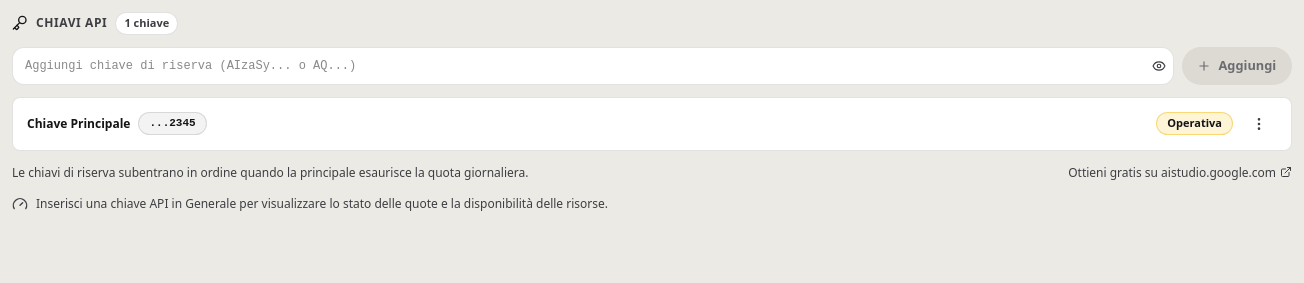
Scenario: ApiKeySection component › shows error if the key format is invalid
Step 1. Type "invalid_key_format" into the password field named "Nuova chiave di riserva" → point(593, 66), box [12,46,1174,84]
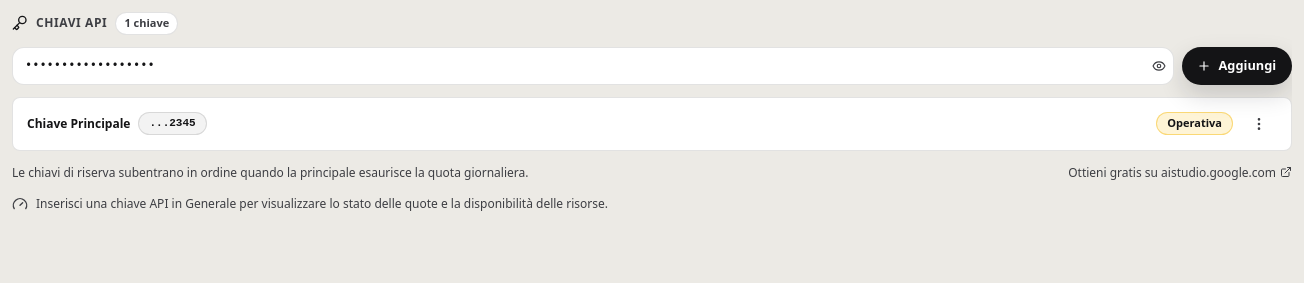
Step 2. Press Enter in the password field named "Nuova chiave di riserva", box [12,46,1174,84]
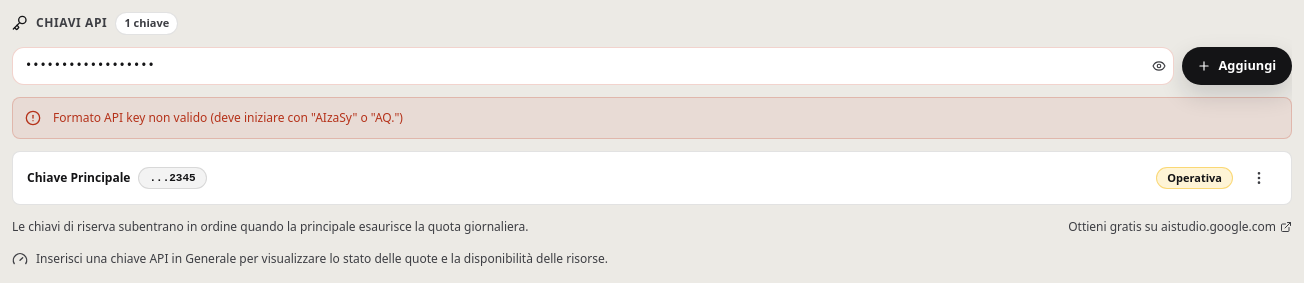
Result: the text "Formato API key non valido" is shown at [53,108,403,126]
